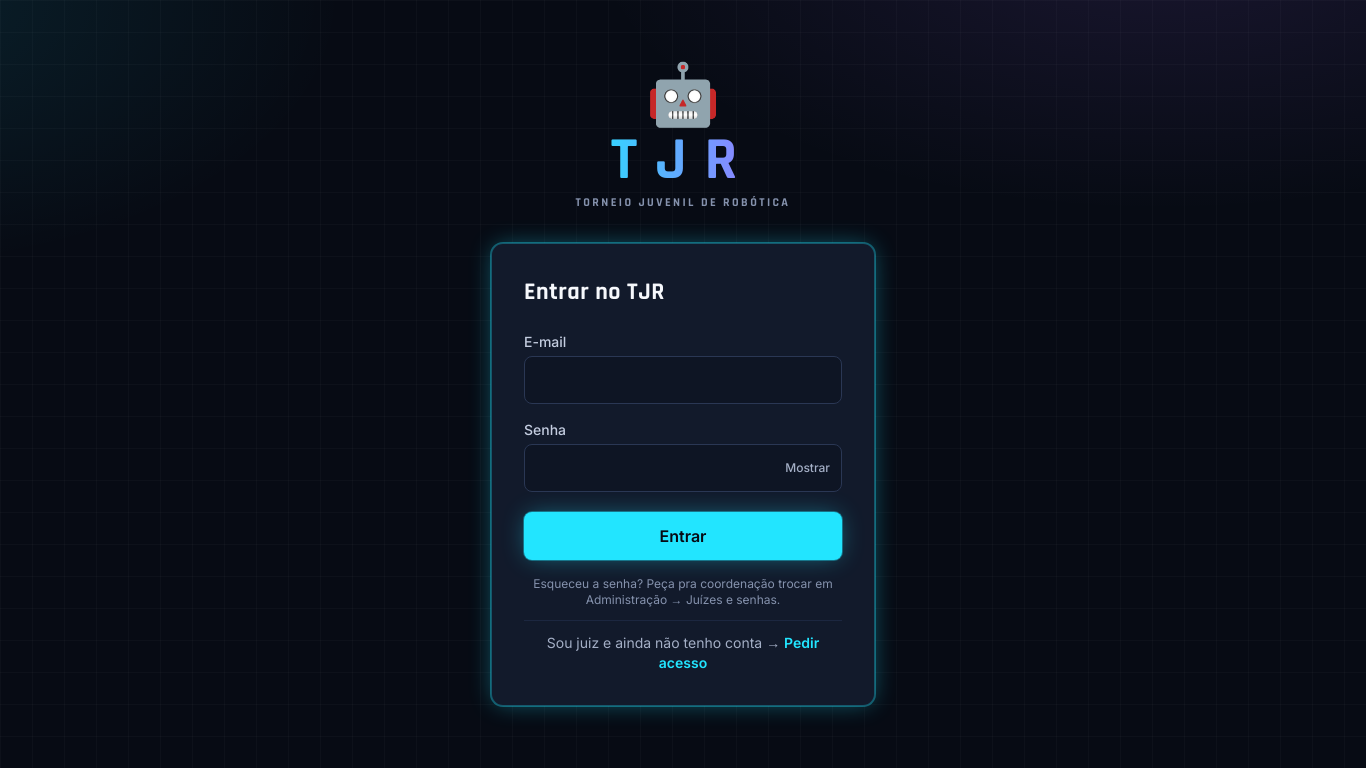
Test: LoginPage › mostra a mensagem de erro quando o login falha
The image size is (1366, 768).
Type "coord@tjr.app" into the field labelled "E-mail" at coordinates (683, 380), box [524,356,842,404]
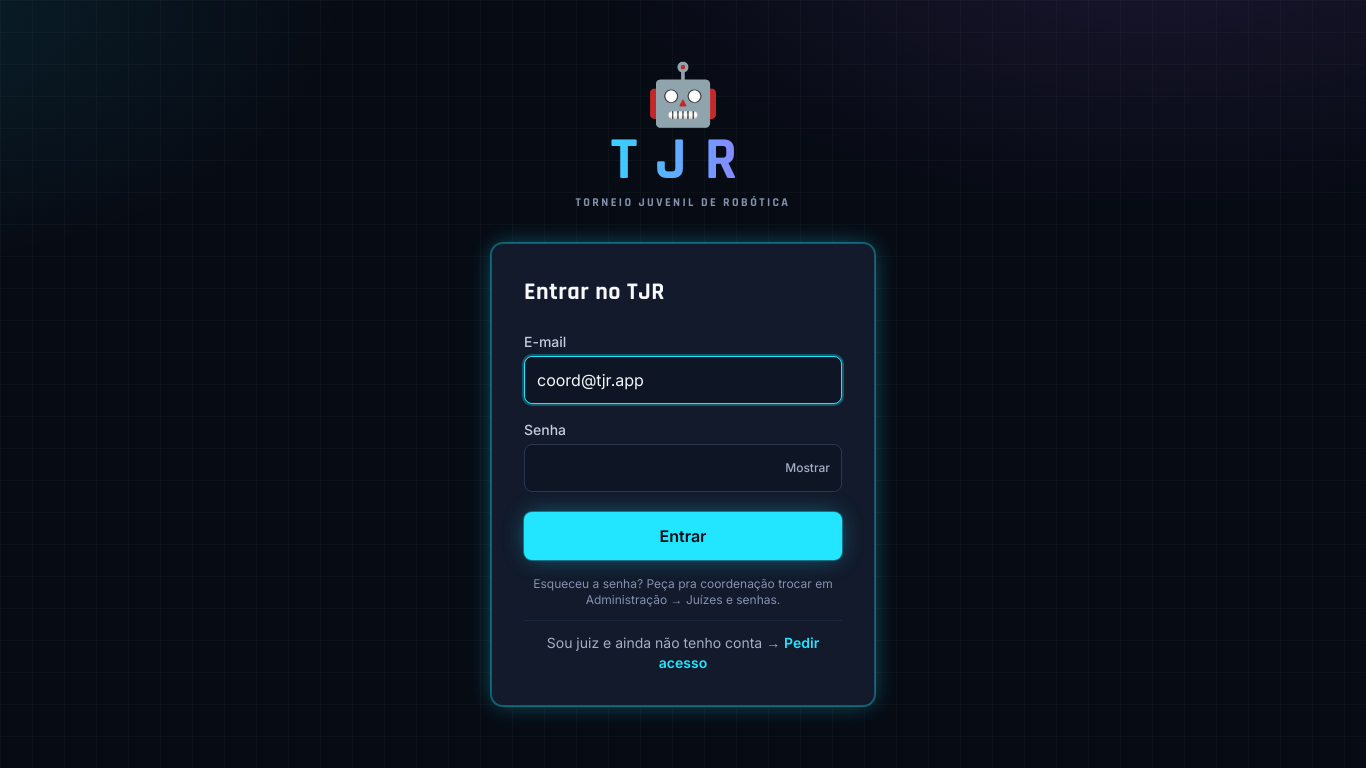
Type "senha-errada" into the password field labelled "Senha" at coordinates (683, 468), box [524,444,842,492]
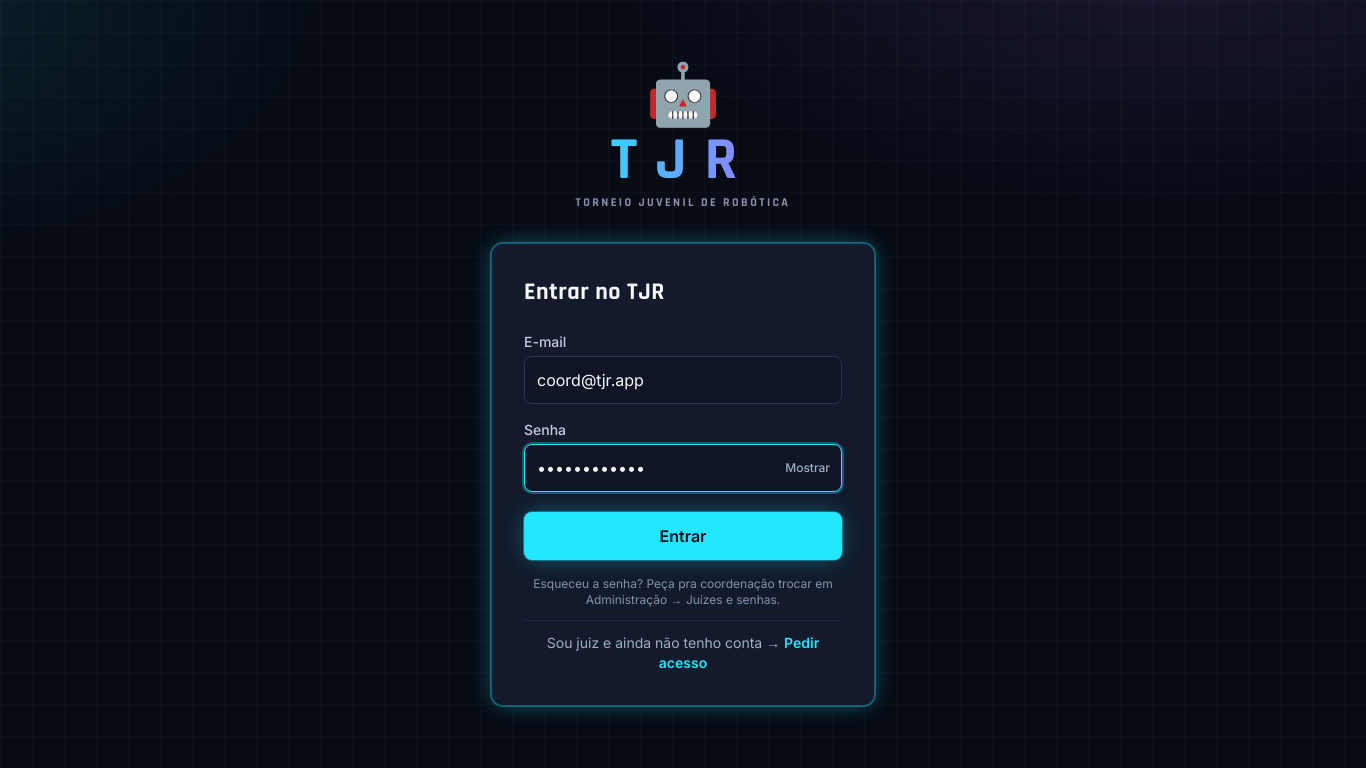
Click the button "Entrar" at coordinates (683, 536), box [524,512,842,560]
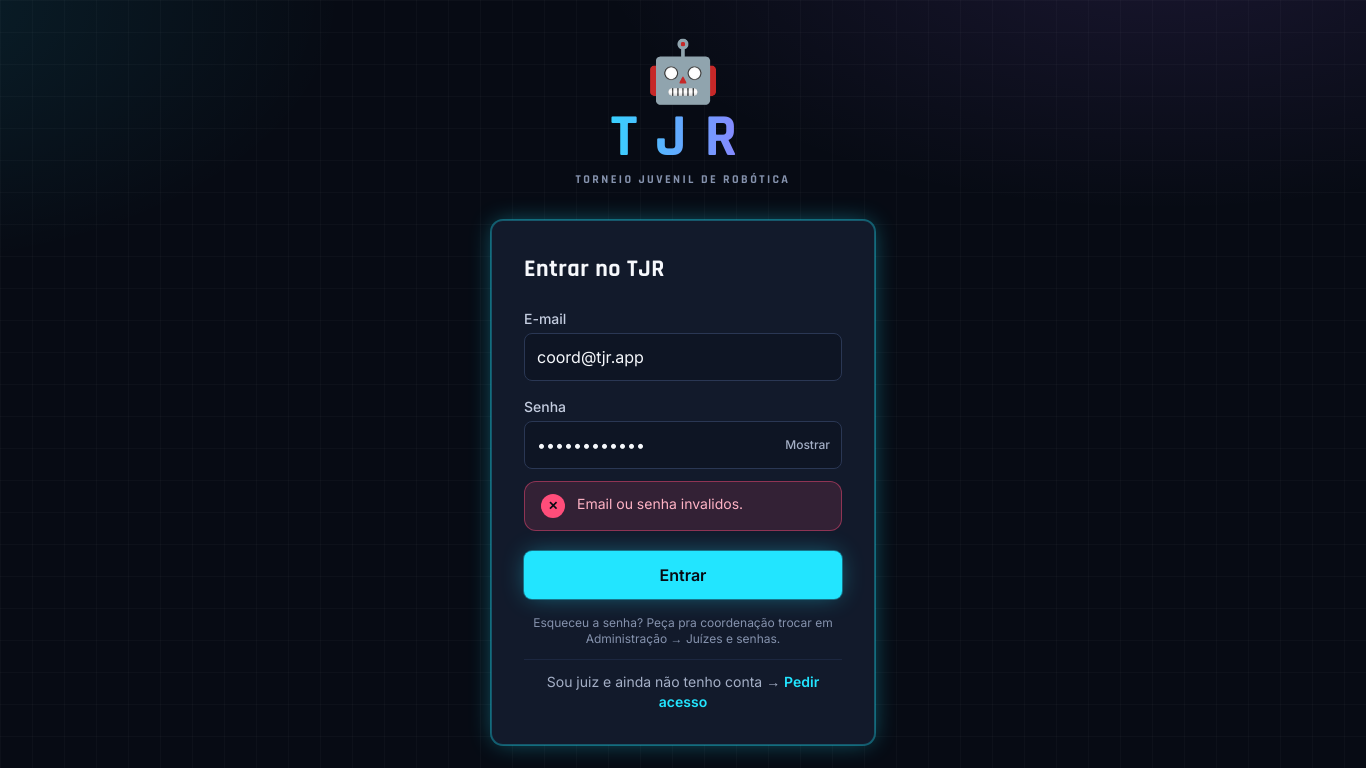
Check: the text "Email ou senha invalidos." is shown, box [577,495,743,512]
